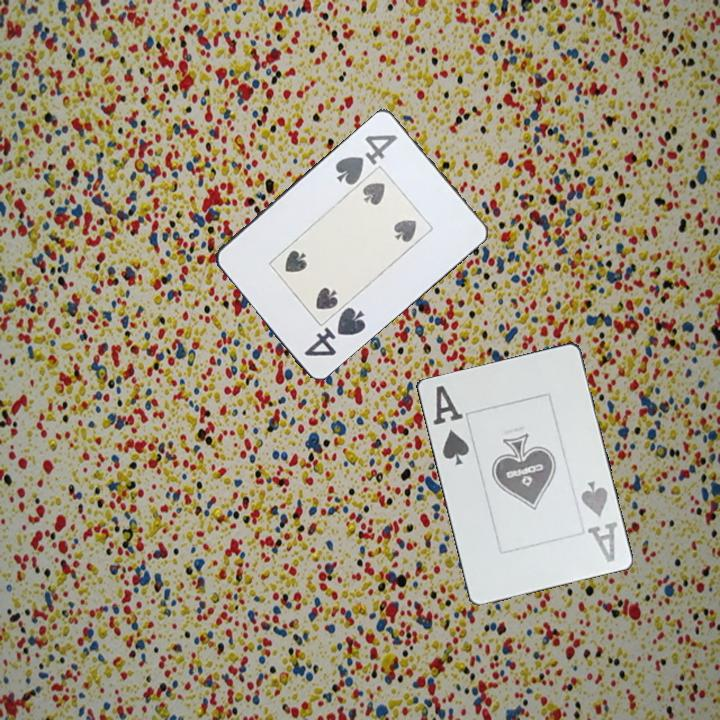4s: (331, 130, 401, 188), (300, 303, 369, 359)
As: (429, 381, 472, 469), (577, 477, 620, 565)
